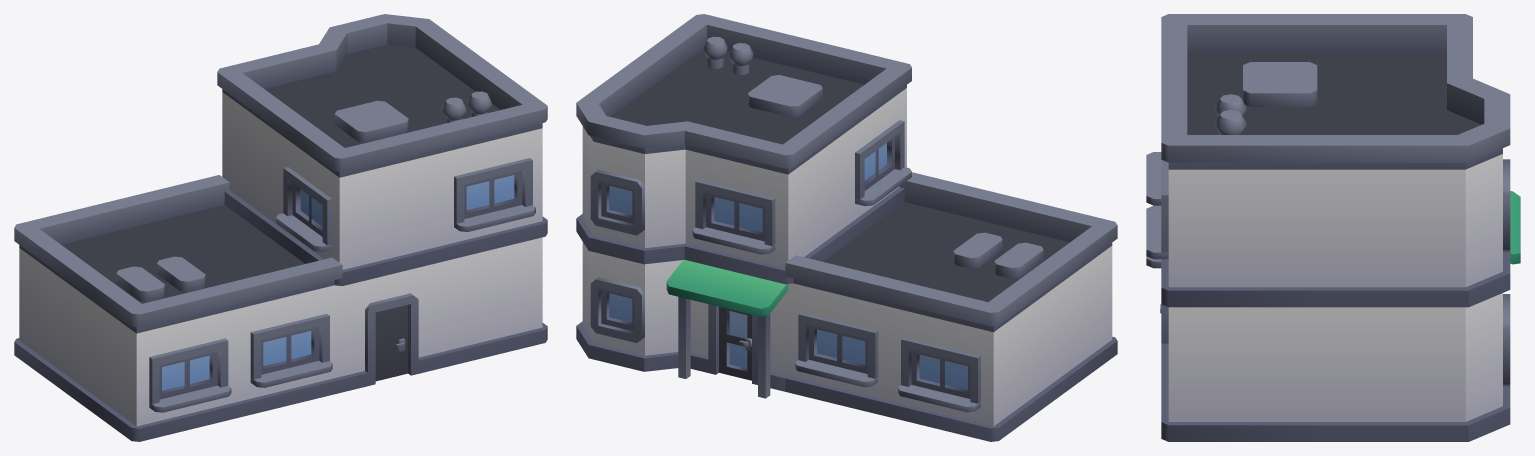
File: k_c_building-e.glb
3 views of the same model, side by side, from view 1: azimuth 30°, elevation 25°; view 2: azimuth 150°, elevation 25°; view 3: azimuth 270°, elevation 25° (orthographic). The views are drawn at different scales.
Parts seen in each view (by area): view 1: building-e; view 2: building-e; view 3: building-e.
Part boxes in pixels (box(x1,y1,x2,y2)): building-e: box(14, 14, 547, 441); building-e: box(576, 14, 1117, 441); building-e: box(1146, 14, 1520, 441).
Size of the model in its own units: 1.64 by 0.893 by 1.01.
1 material, 1 textured.
